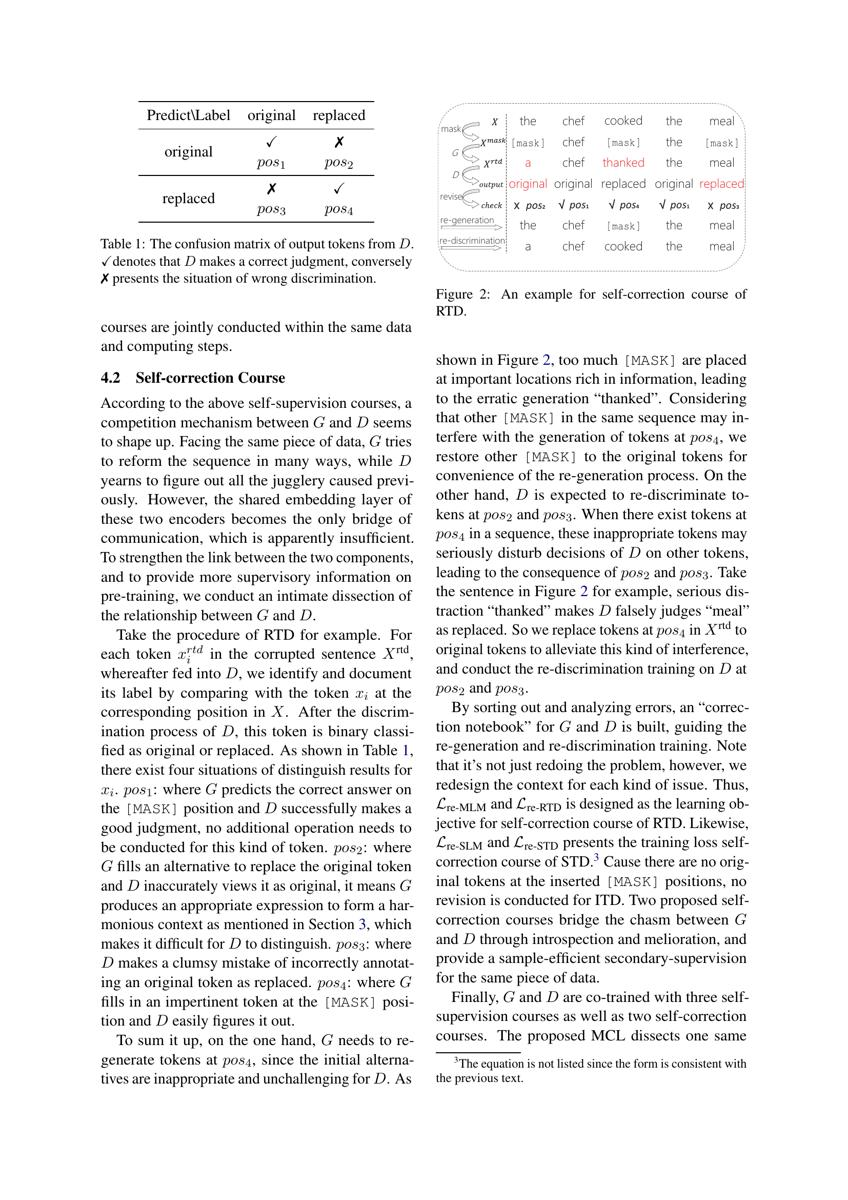figure: (431, 99, 751, 323)
table: (95, 98, 418, 292)
text: (95, 625, 418, 1091), (430, 699, 753, 1049), (430, 350, 753, 699), (95, 316, 418, 625)
